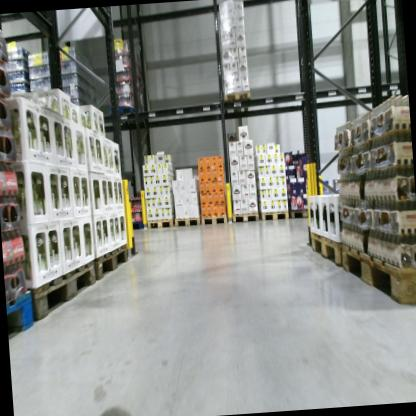pallet: (341, 235, 416, 311), (30, 261, 103, 329), (6, 290, 38, 350), (307, 228, 344, 274), (94, 242, 131, 286), (105, 102, 149, 127), (220, 85, 253, 116), (230, 211, 262, 226), (201, 211, 229, 228), (173, 216, 202, 230), (259, 209, 288, 223), (288, 207, 313, 219), (146, 218, 173, 228)
